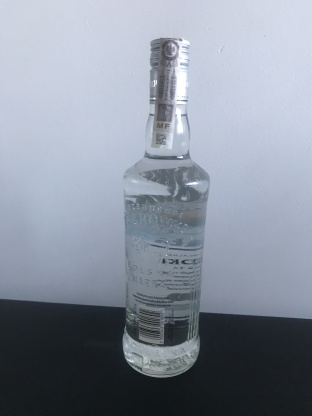nakretka: (147, 32, 191, 107)
